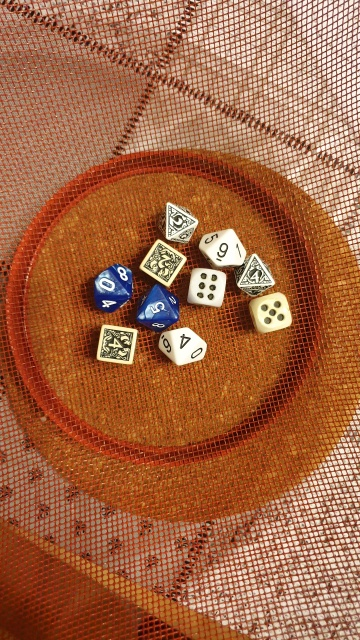d10-10: (86, 260, 135, 317)
d10-4: (155, 323, 215, 373)
d10-5: (129, 284, 181, 334)
d10-9: (195, 223, 245, 272)
d6-5: (245, 290, 296, 336)
d6-6: (184, 265, 229, 309)
d6p-2: (140, 240, 187, 287)
d6p-4: (92, 320, 142, 369)
d8p-2: (162, 203, 198, 245)
d8p-4: (232, 249, 275, 300)
